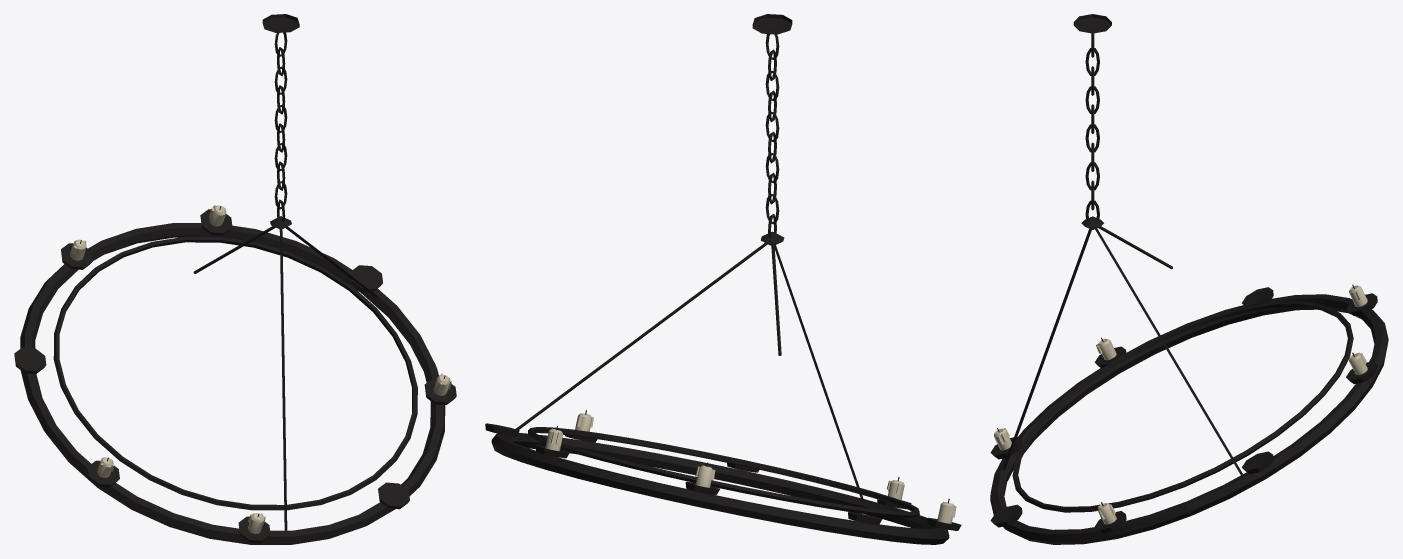
The model's file is kronleuchter_kaputt.glb.
3 views of the same model, side by side, from view 1: azimuth 30°, elevation 25°; view 2: azimuth 150°, elevation 25°; view 3: azimuth 270°, elevation 25° (orthographic). The views are drawn at different scales.
Visible parts, largest first — view 1: kronleuchter_kaputt; view 2: kronleuchter_kaputt; view 3: kronleuchter_kaputt.
Part boxes in pixels (<box>): kronleuchter_kaputt: <box>14,14,456,544</box>; kronleuchter_kaputt: <box>485,14,961,544</box>; kronleuchter_kaputt: <box>990,14,1388,544</box>.
Bounding box in the file's own units: 1.14 × 1.39 × 1.04.
